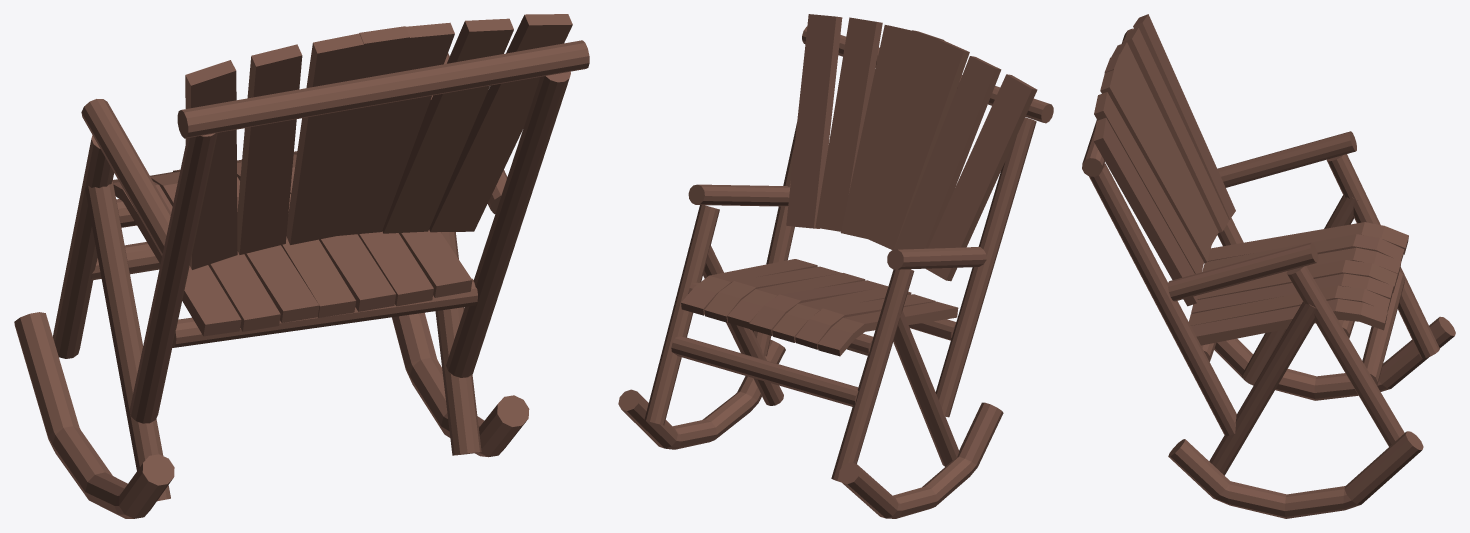
Rendered from chair.obj.
3 views of the same model, side by side, from view 1: azimuth 30°, elevation 25°; view 2: azimuth 150°, elevation 25°; view 3: azimuth 270°, elevation 25° (orthographic). The views are drawn at different scales.
Visible parts, largest first — view 1: group268154718; view 2: group268154718; view 3: group268154718.
Boxes of the visible parts, x1=… form: group268154718: x1=14, y1=14, x2=589, y2=518; group268154718: x1=618, y1=14, x2=1053, y2=518; group268154718: x1=1082, y1=14, x2=1455, y2=518.
Size of the model in its own units: 0.9857 by 1.22 by 1.06.
